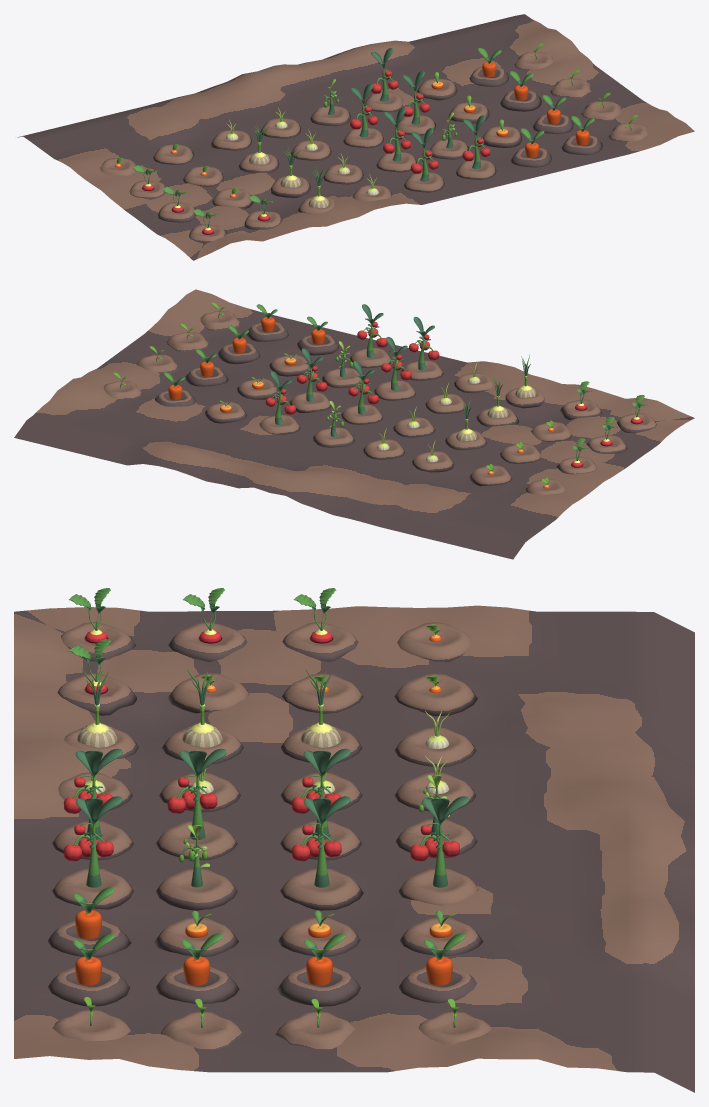
Rendered from suelo.fbx.
3 views of the same model, one above another, from view 1: azimuth 30°, elevation 25°; view 2: azimuth 150°, elevation 25°; view 3: azimuth 270°, elevation 25° (orthographic). The views are drawn at different scales.
Visible parts, largest first — view 1: suelo, Tomate_Maduro.004, Tomate_Maduro, Tomate_Maduro.001, Tomate_Maduro.002, Tomate_Maduro.003, Tomate_Maduro.005, Zanahoria_Madura.003, Zanahoria_Madura, Zanahoria_Madura.001, Zanahoria_Madura.002, Cebolla_Madura.001 (+25 smaller); view 2: suelo, Tomate_Maduro.002, Tomate_Maduro.004, Tomate_Maduro.005, Tomate_Maduro.003, Tomate_Maduro.001, Tomate_Maduro, Tomate_Chico, Zanahoria_Madura.002, Zanahoria_Madura.003, Zanahoria_Madura, Zanahoria_Madura.001 (+25 smaller); view 3: suelo, Tomate_Maduro.005, Tomate_Maduro.001, Tomate_Maduro.003, Tomate_Maduro.002, Zanahoria_Madura.003, Tomate_Chico.001, Zanahoria_Madura.001, Zanahoria_Madura.002, Tomate_Maduro.004, Tomate_Maduro, Zanahoria_Madura.004 (+25 smaller).
Boxes of the visible parts, bbox=[...] form: suelo: bbox=[17, 14, 694, 260]; Tomate_Maduro.004: bbox=[343, 83, 383, 148]; Tomate_Maduro: bbox=[404, 128, 444, 192]; Tomate_Maduro.001: bbox=[455, 115, 496, 179]; Tomate_Maduro.002: bbox=[376, 107, 416, 172]; Tomate_Maduro.003: bbox=[364, 48, 403, 111]; Tomate_Maduro.005: bbox=[395, 71, 436, 135]; Zanahoria_Madura.003: bbox=[500, 71, 541, 111]; Zanahoria_Madura: bbox=[510, 128, 551, 167]; Zanahoria_Madura.001: bbox=[561, 116, 602, 155]; Zanahoria_Madura.002: bbox=[533, 95, 573, 134]; Cebolla_Madura.001: bbox=[270, 146, 310, 197]; suelo: bbox=[14, 289, 694, 559]; Tomate_Maduro.002: bbox=[374, 337, 416, 400]; Tomate_Maduro.004: bbox=[341, 361, 383, 424]; Tomate_Maduro.005: bbox=[289, 348, 331, 412]; Tomate_Maduro.003: bbox=[259, 371, 300, 434]; Tomate_Maduro.001: bbox=[349, 304, 391, 368]; Tomate_Maduro: bbox=[401, 316, 443, 380]; Tomate_Chico: bbox=[313, 401, 354, 447]; Zanahoria_Madura.002: bbox=[218, 325, 260, 364]; Zanahoria_Madura.003: bbox=[185, 349, 228, 386]; Zanahoria_Madura: bbox=[297, 316, 339, 355]; Zanahoria_Madura.001: bbox=[246, 304, 288, 341]; suelo: bbox=[14, 605, 694, 1092]; Tomate_Maduro.005: bbox=[280, 796, 363, 910]; Tomate_Maduro.001: bbox=[52, 796, 133, 909]; Tomate_Maduro.003: bbox=[398, 796, 478, 905]; Tomate_Maduro.002: bbox=[156, 748, 237, 860]; Zanahoria_Madura.003: bbox=[277, 933, 360, 1006]; Tomate_Chico.001: bbox=[156, 825, 237, 910]; Zanahoria_Madura.001: bbox=[48, 933, 129, 1006]; Zanahoria_Madura.002: bbox=[155, 933, 239, 1003]; Tomate_Maduro.004: bbox=[280, 748, 361, 860]; Tomate_Maduro: bbox=[52, 748, 133, 860]; Zanahoria_Madura.004: bbox=[398, 933, 476, 1003].
Bounding box in the file's own units: 952 × 117 × 593.
